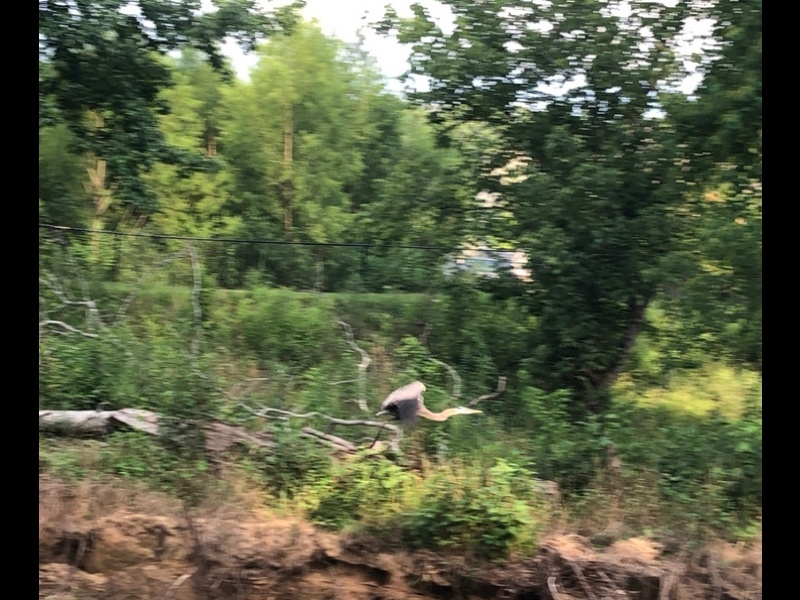heron: (364, 377, 483, 456)
